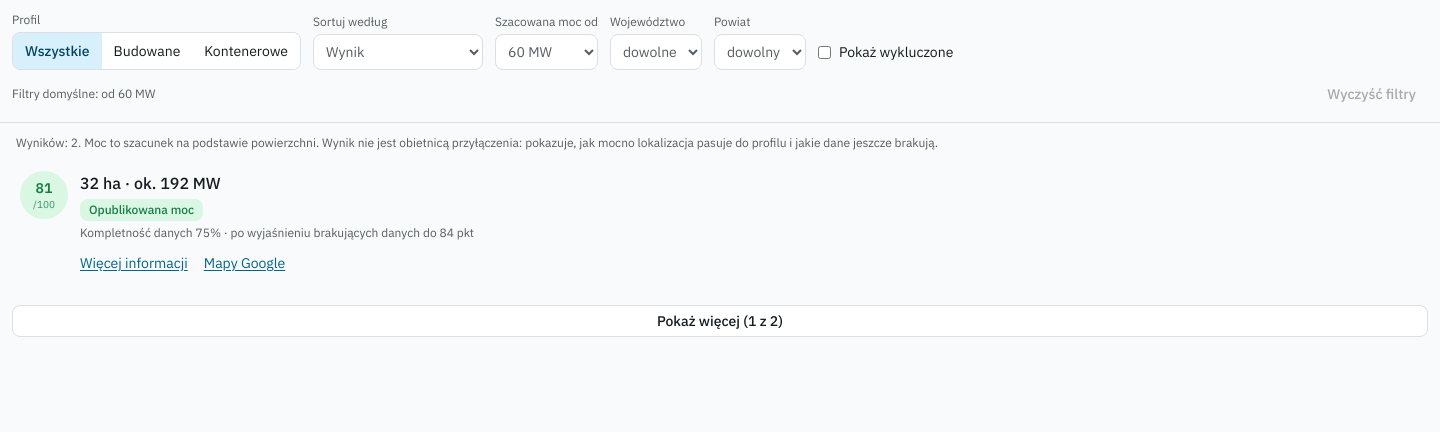
it: SiteList › offers more results when the page is not complete, and asks for the next page with its cursor
Click the button "Pokaż więcej (1 z 2)" at [720, 321], box [12,305,1428,337]
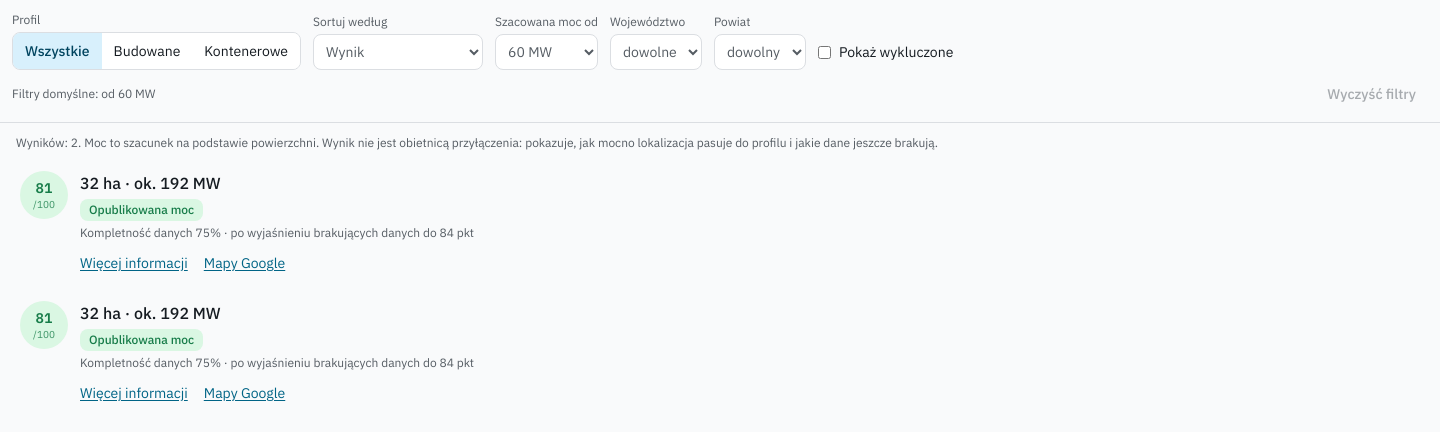
Expected: the number of list items with test id "site-row" is 2, [8,159,1432,285]; [8,289,1432,415]
